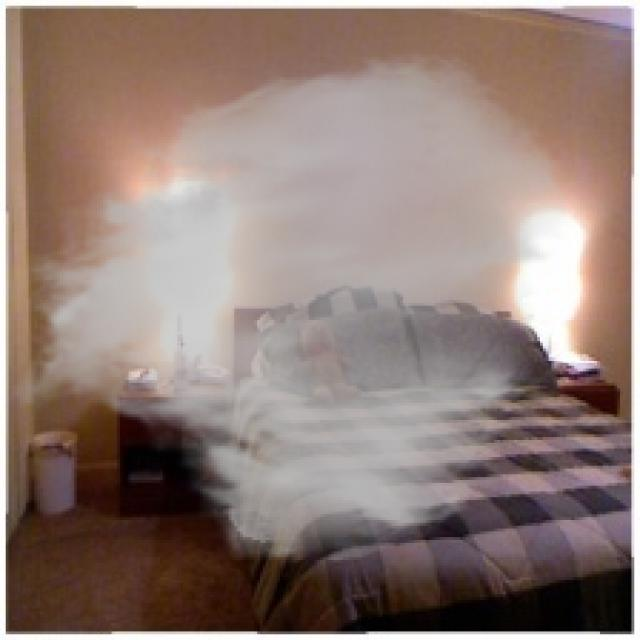smoke: (9, 49, 572, 568)
